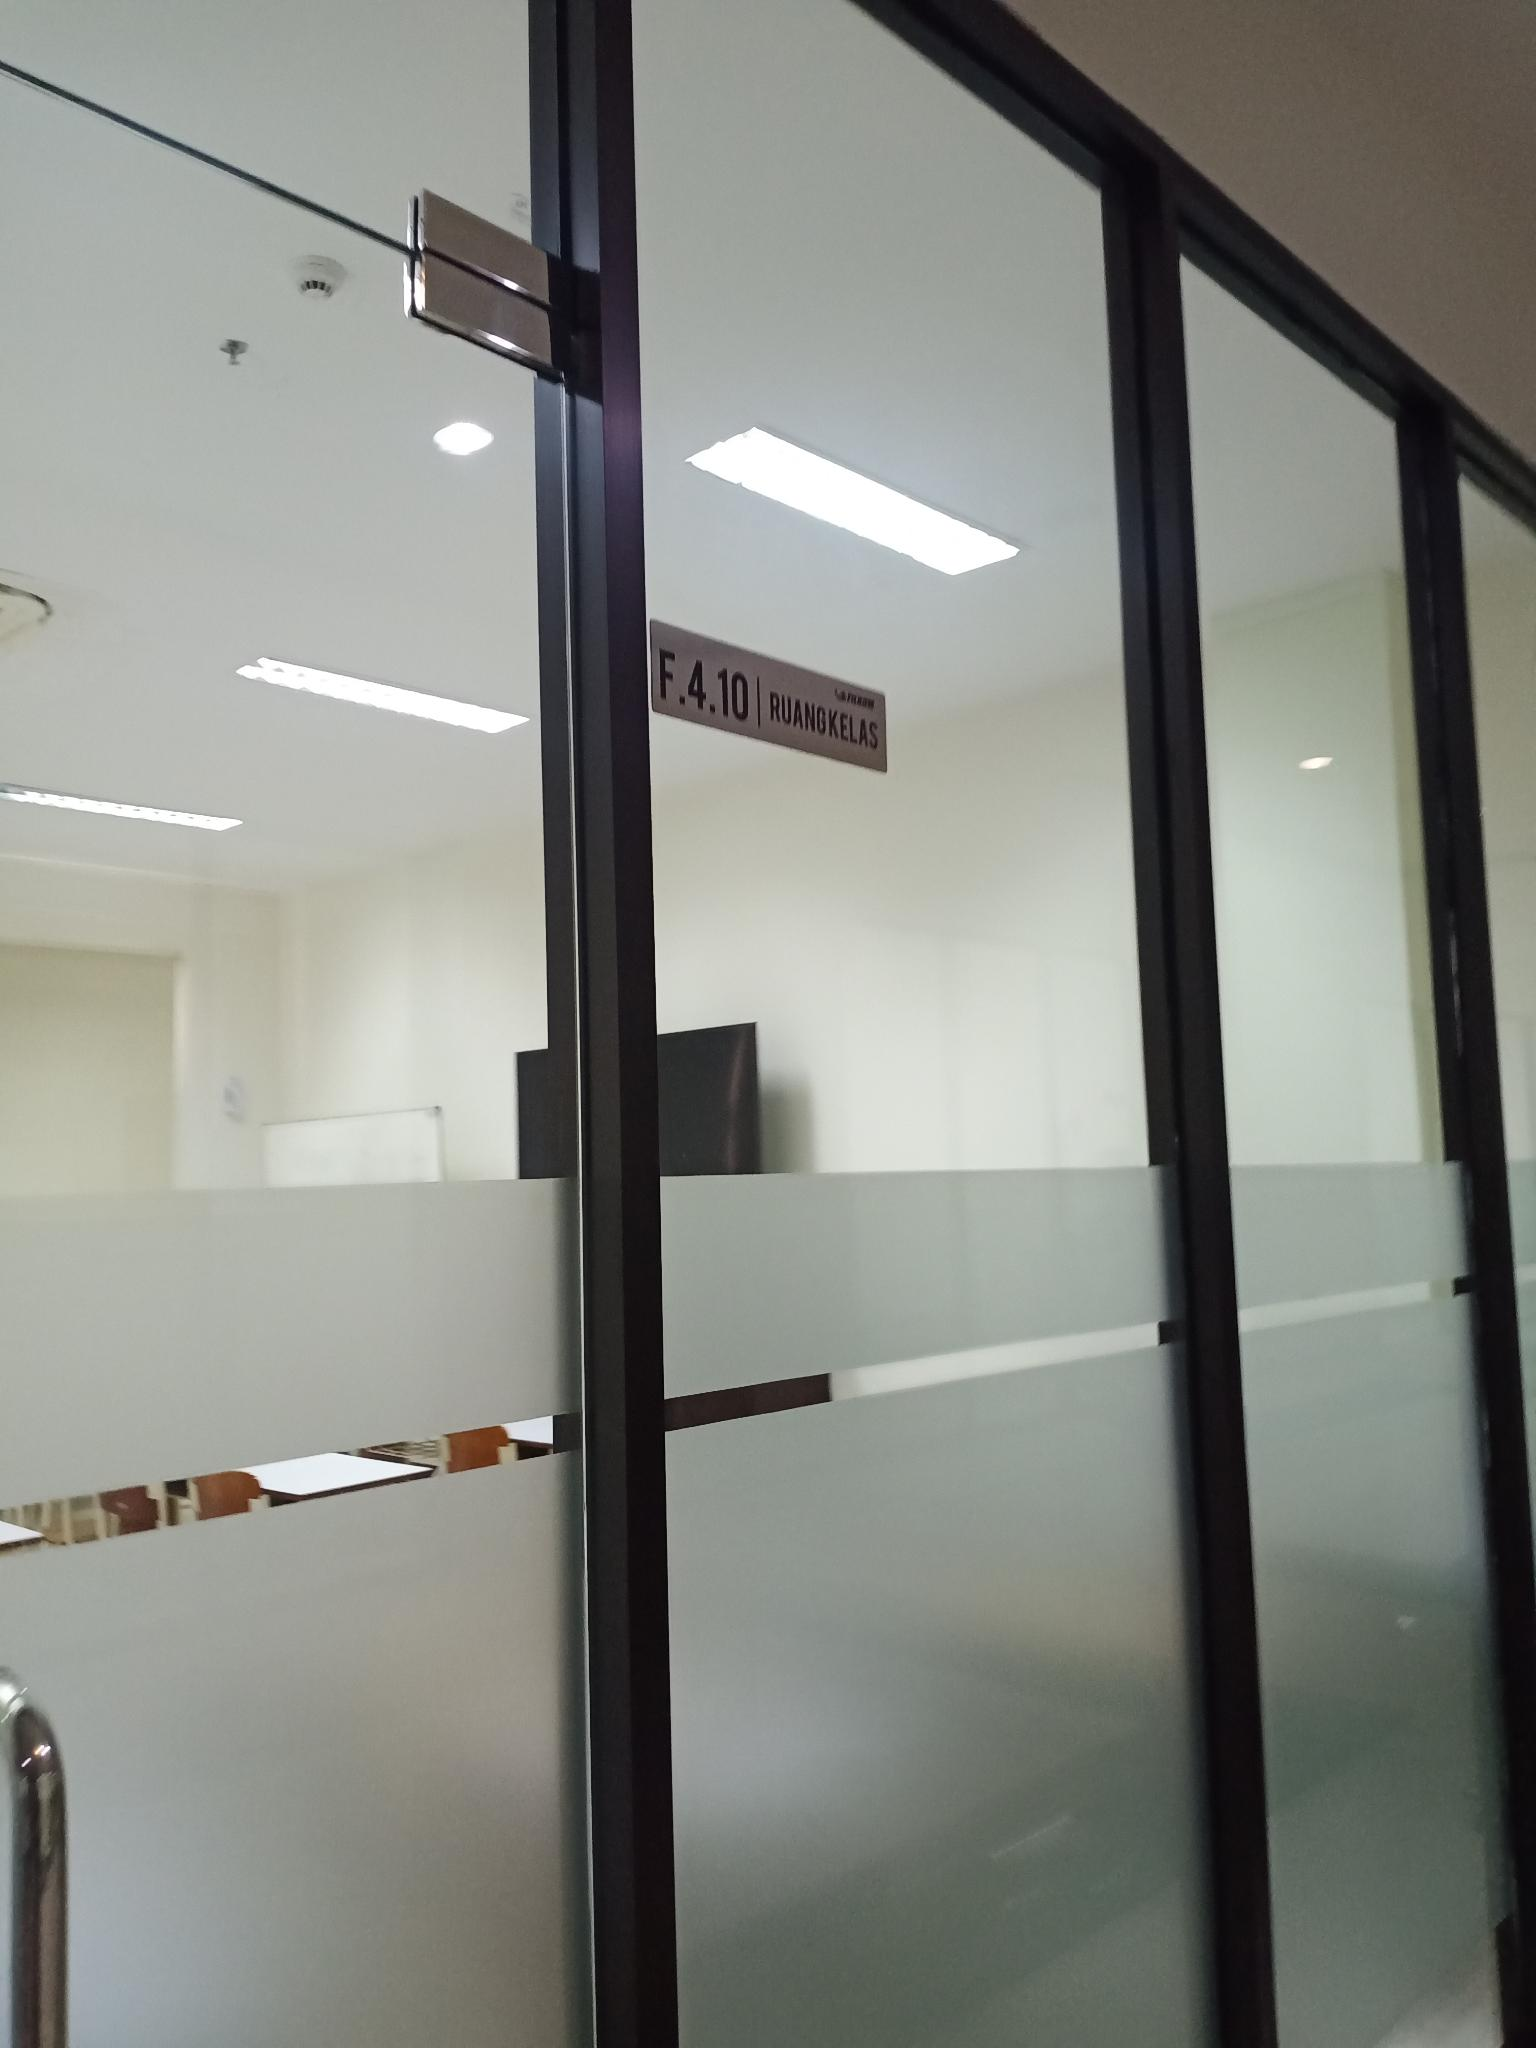plate: (650, 618, 887, 774)
